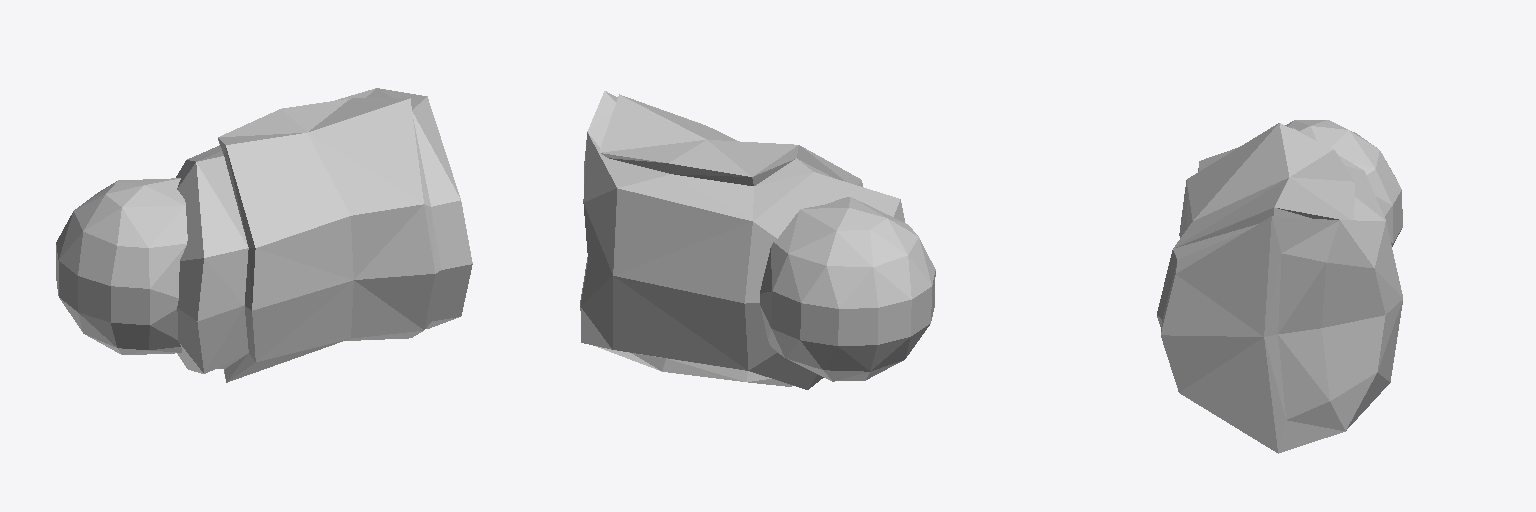
Rendered from Phalax.obj.
3 renders of one model, left to right at view 1: azimuth 30°, elevation 25°; view 2: azimuth 150°, elevation 25°; view 3: azimuth 270°, elevation 25°, orthographic.
Visible parts, largest first — view 1: LFinger11_Phalax; view 2: LFinger11_Phalax; view 3: LFinger11_Phalax.
Part boxes in pixels (bbox=[...]): LFinger11_Phalax: bbox=[56, 88, 472, 382]; LFinger11_Phalax: bbox=[580, 91, 935, 389]; LFinger11_Phalax: bbox=[1157, 120, 1402, 453].
Size of the model in its own units: 0.0234 by 0.016 by 0.0146.